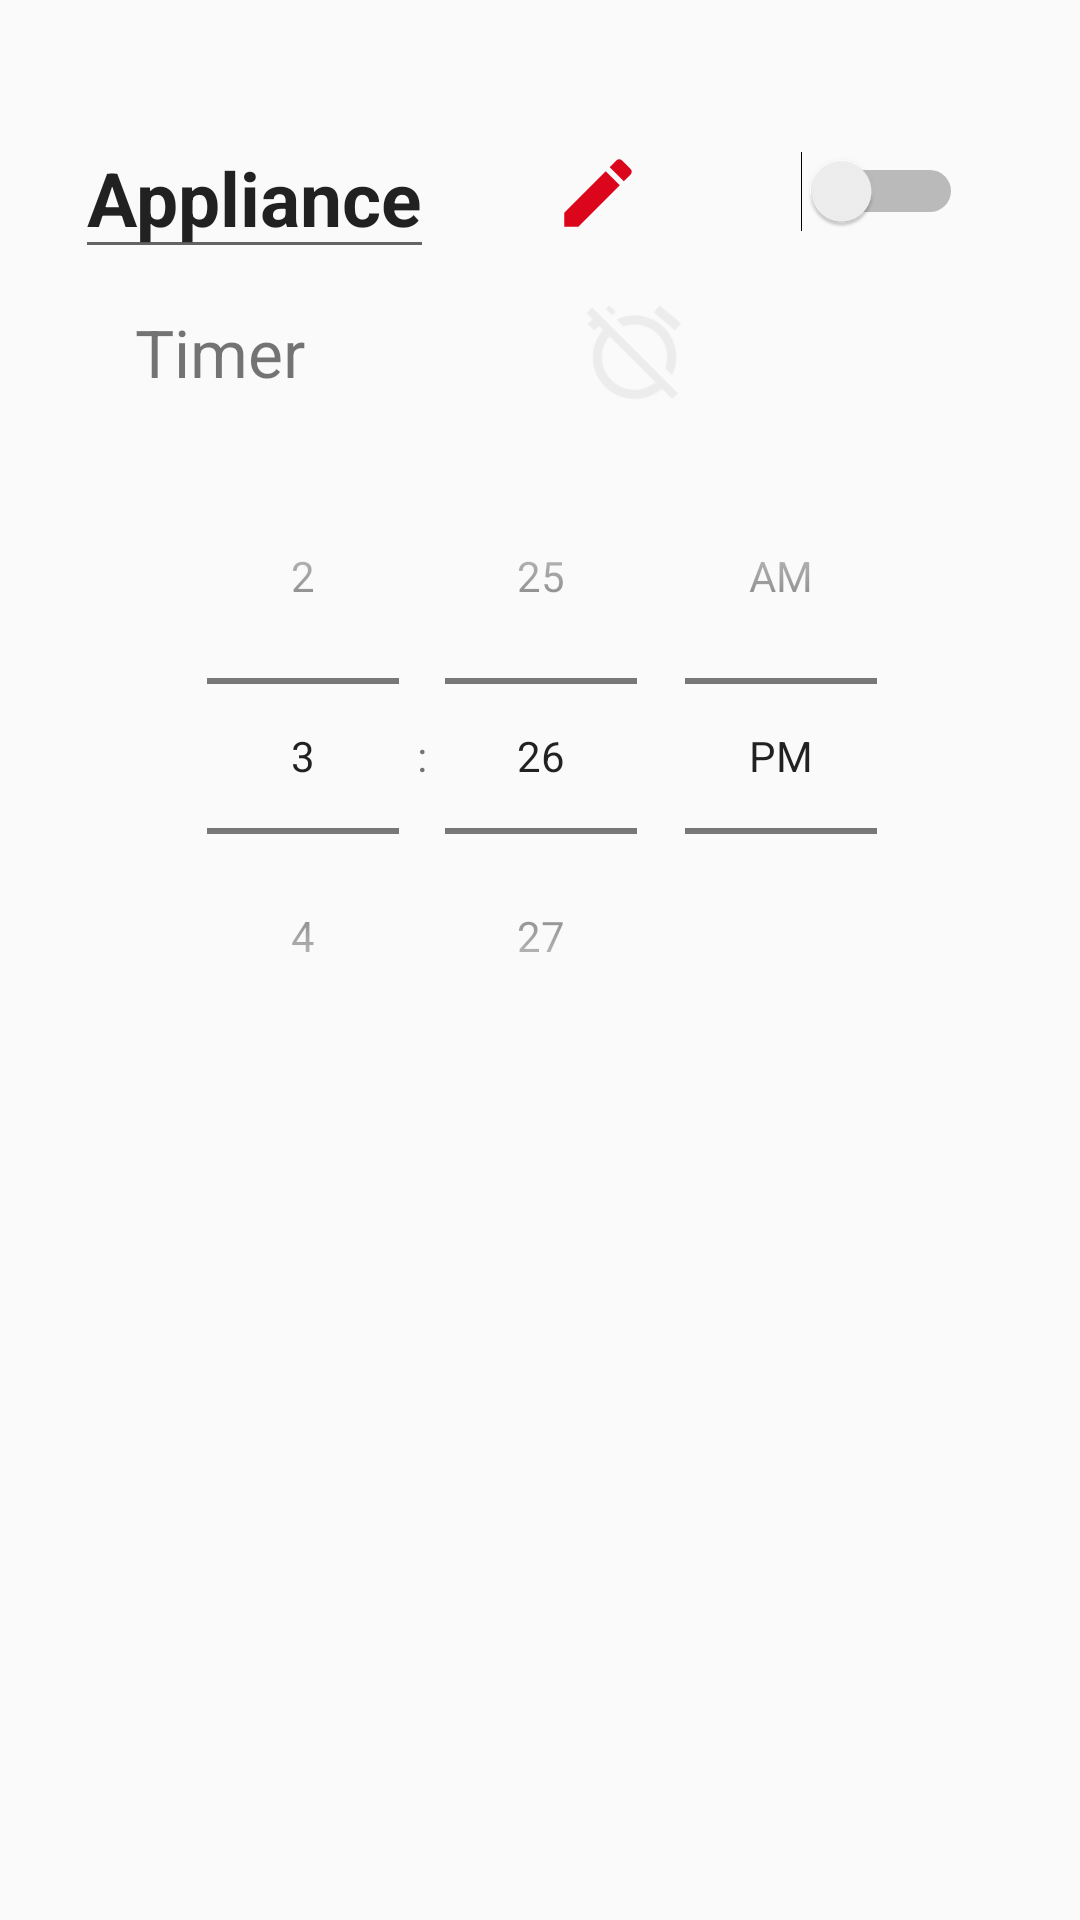

Screen size 1080×1920. Icon name, then its center in pixels as (x,y):
rename: (598,193)
